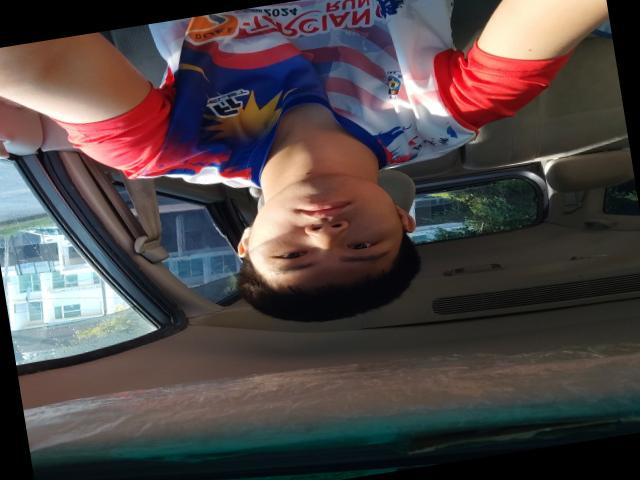eye_open: (344, 234, 384, 255), (270, 246, 311, 265)
face: (239, 165, 406, 296)
